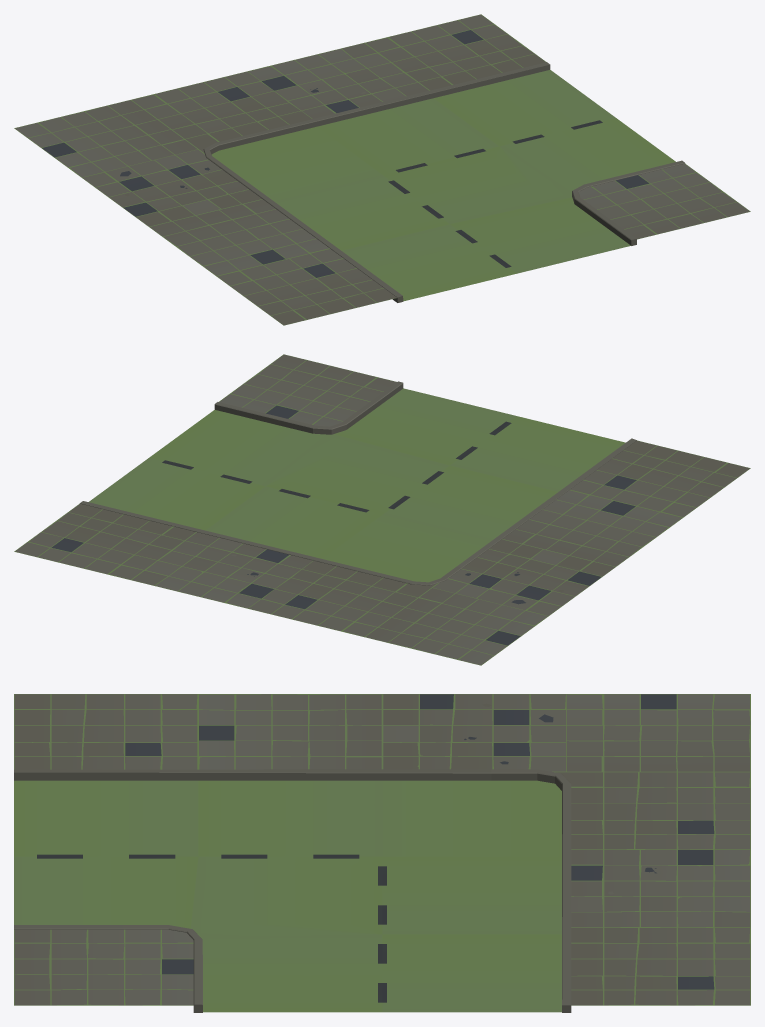
File: Road_29.fbx
The picture shows the model from 3 angles, top to bottom: view 1: azimuth 30°, elevation 25°; view 2: azimuth 150°, elevation 25°; view 3: azimuth 270°, elevation 25°; orthographic projection. The views are drawn at different scales.
Visible parts, largest first — view 1: Road_29; view 2: Road_29; view 3: Road_29.
Part boxes in pixels (left/top/right/bottom): Road_29: left=14, top=14, right=750, bottom=325; Road_29: left=14, top=354, right=750, bottom=665; Road_29: left=14, top=694, right=750, bottom=1012.
Size of the model in its own units: 12 by 0.15 by 12.
